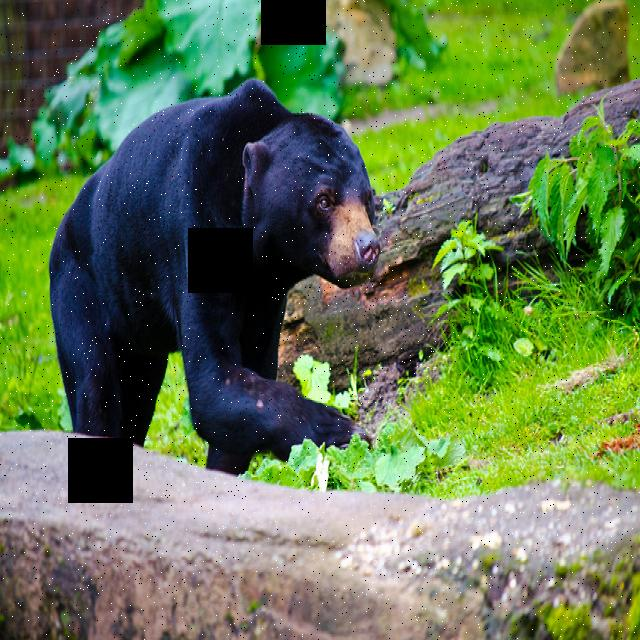Bear: (49, 76, 383, 499)
